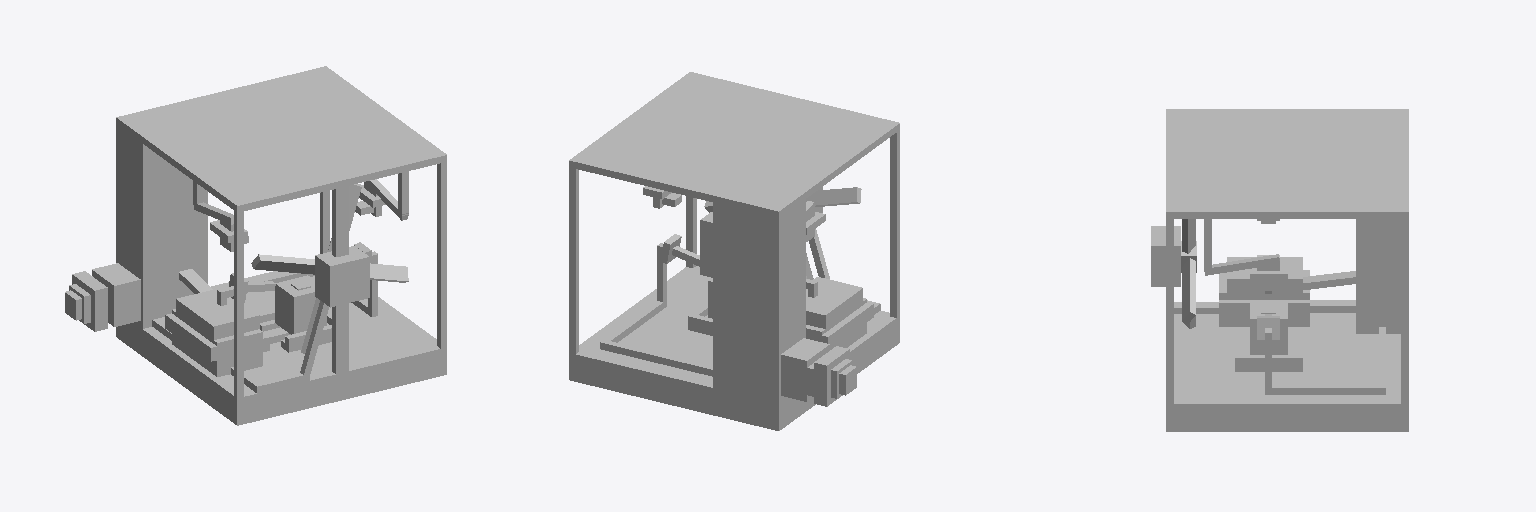
Rendered from retifier_valve_off_base.obj.
3 views of the same model, side by side, from view 1: azimuth 30°, elevation 25°; view 2: azimuth 150°, elevation 25°; view 3: azimuth 270°, elevation 25° (orthographic).
Visible parts, largest first — view 1: cube; view 2: cube; view 3: cube.
Part boxes in pixels (bbox=[...]): cube: bbox=[65, 66, 446, 425]; cube: bbox=[569, 72, 899, 430]; cube: bbox=[1151, 109, 1408, 431].
Bounding box in the file's own units: 2.56 × 2 × 2.12.